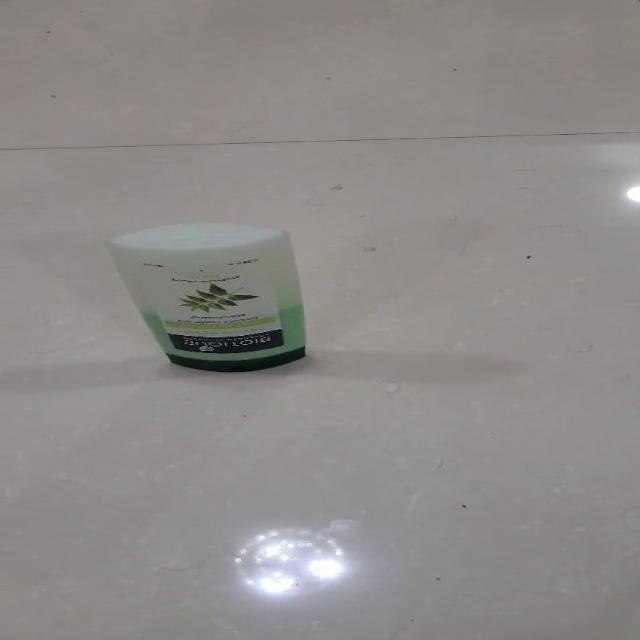plastic: (103, 221, 307, 372)
